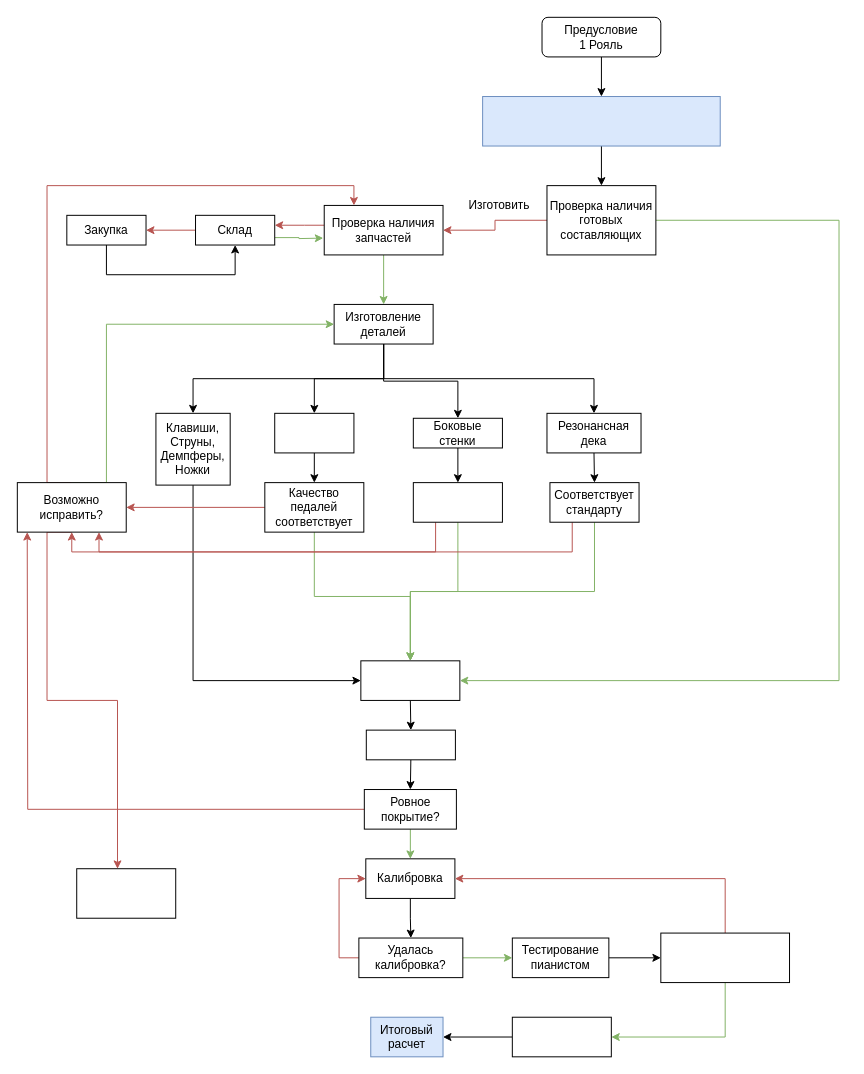
The diagram is 864 pixels wide and 1074 high, and some of its shapes have lost their labels. The shapes that lost their labels are listed below. From the top down, each one's centre as x and y in pixels, then its label:
At point 601,121: "Тз Цена продажи > стоимость производства".
At point 314,432: "Педали".
At point 457,502: "Не содержат дефекта".
At point 410,680: "Сборка".
At point 410,744: "Лакировка".
At point 126,893: "Брак, Подсчет убытка".
At point 725,957: "Правильно ли звукоизвлечение?".
At point 561,1036: "Упаковка".
